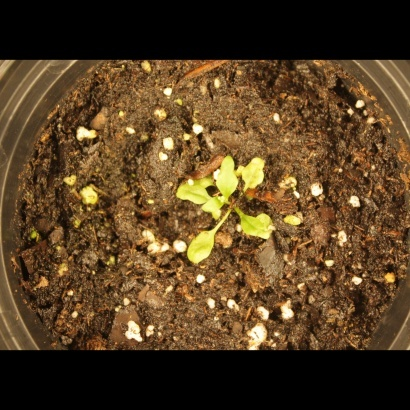leaf: (236, 207, 282, 249), (183, 225, 223, 273), (209, 149, 243, 200), (241, 150, 276, 197), (163, 173, 206, 210), (200, 196, 230, 225)
